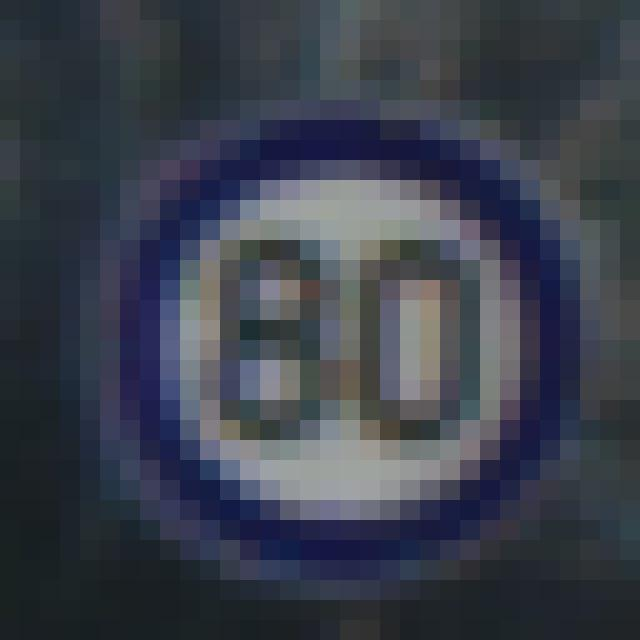SPEED-LIMIT-80: (90, 87, 586, 579)
